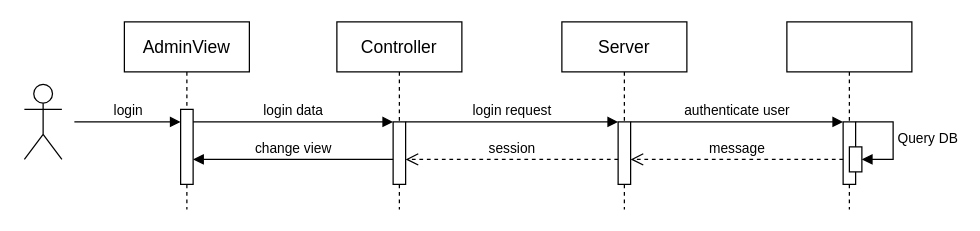
Image size: 980x231. Some labels were removed from this diagram. The centre of each missing label's shape, as x and y in pixels:
Admin: the point at 42,121
Model: the point at 849,115
